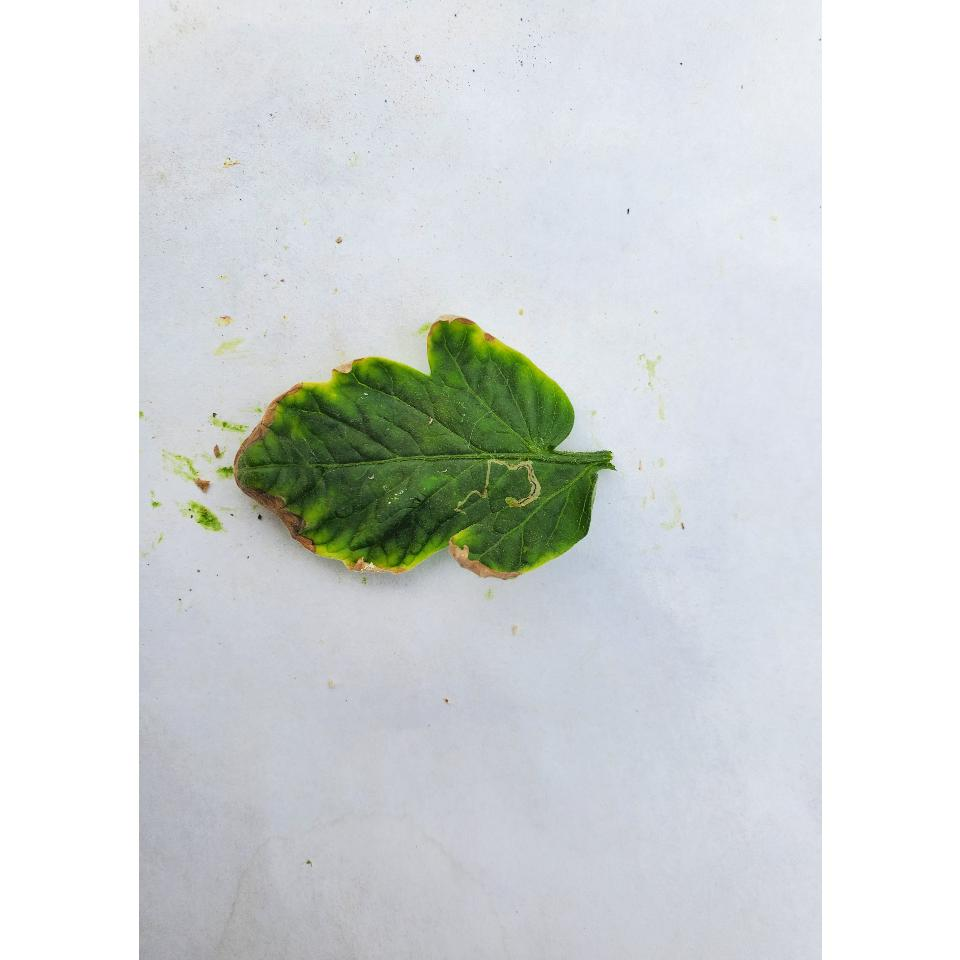tomato_bacterial_blight: (213, 331, 629, 585)
